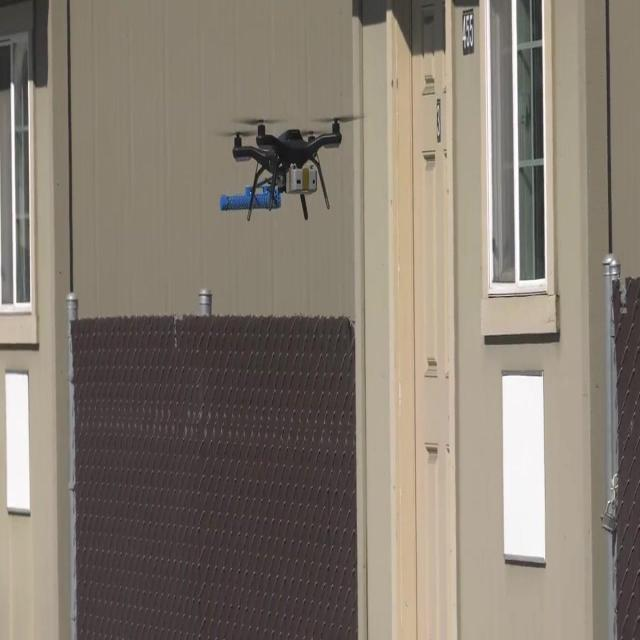UAV: (218, 116, 362, 222)
